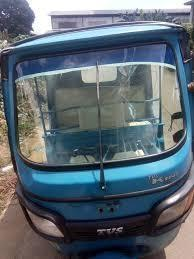keke: (2, 21, 194, 259)
